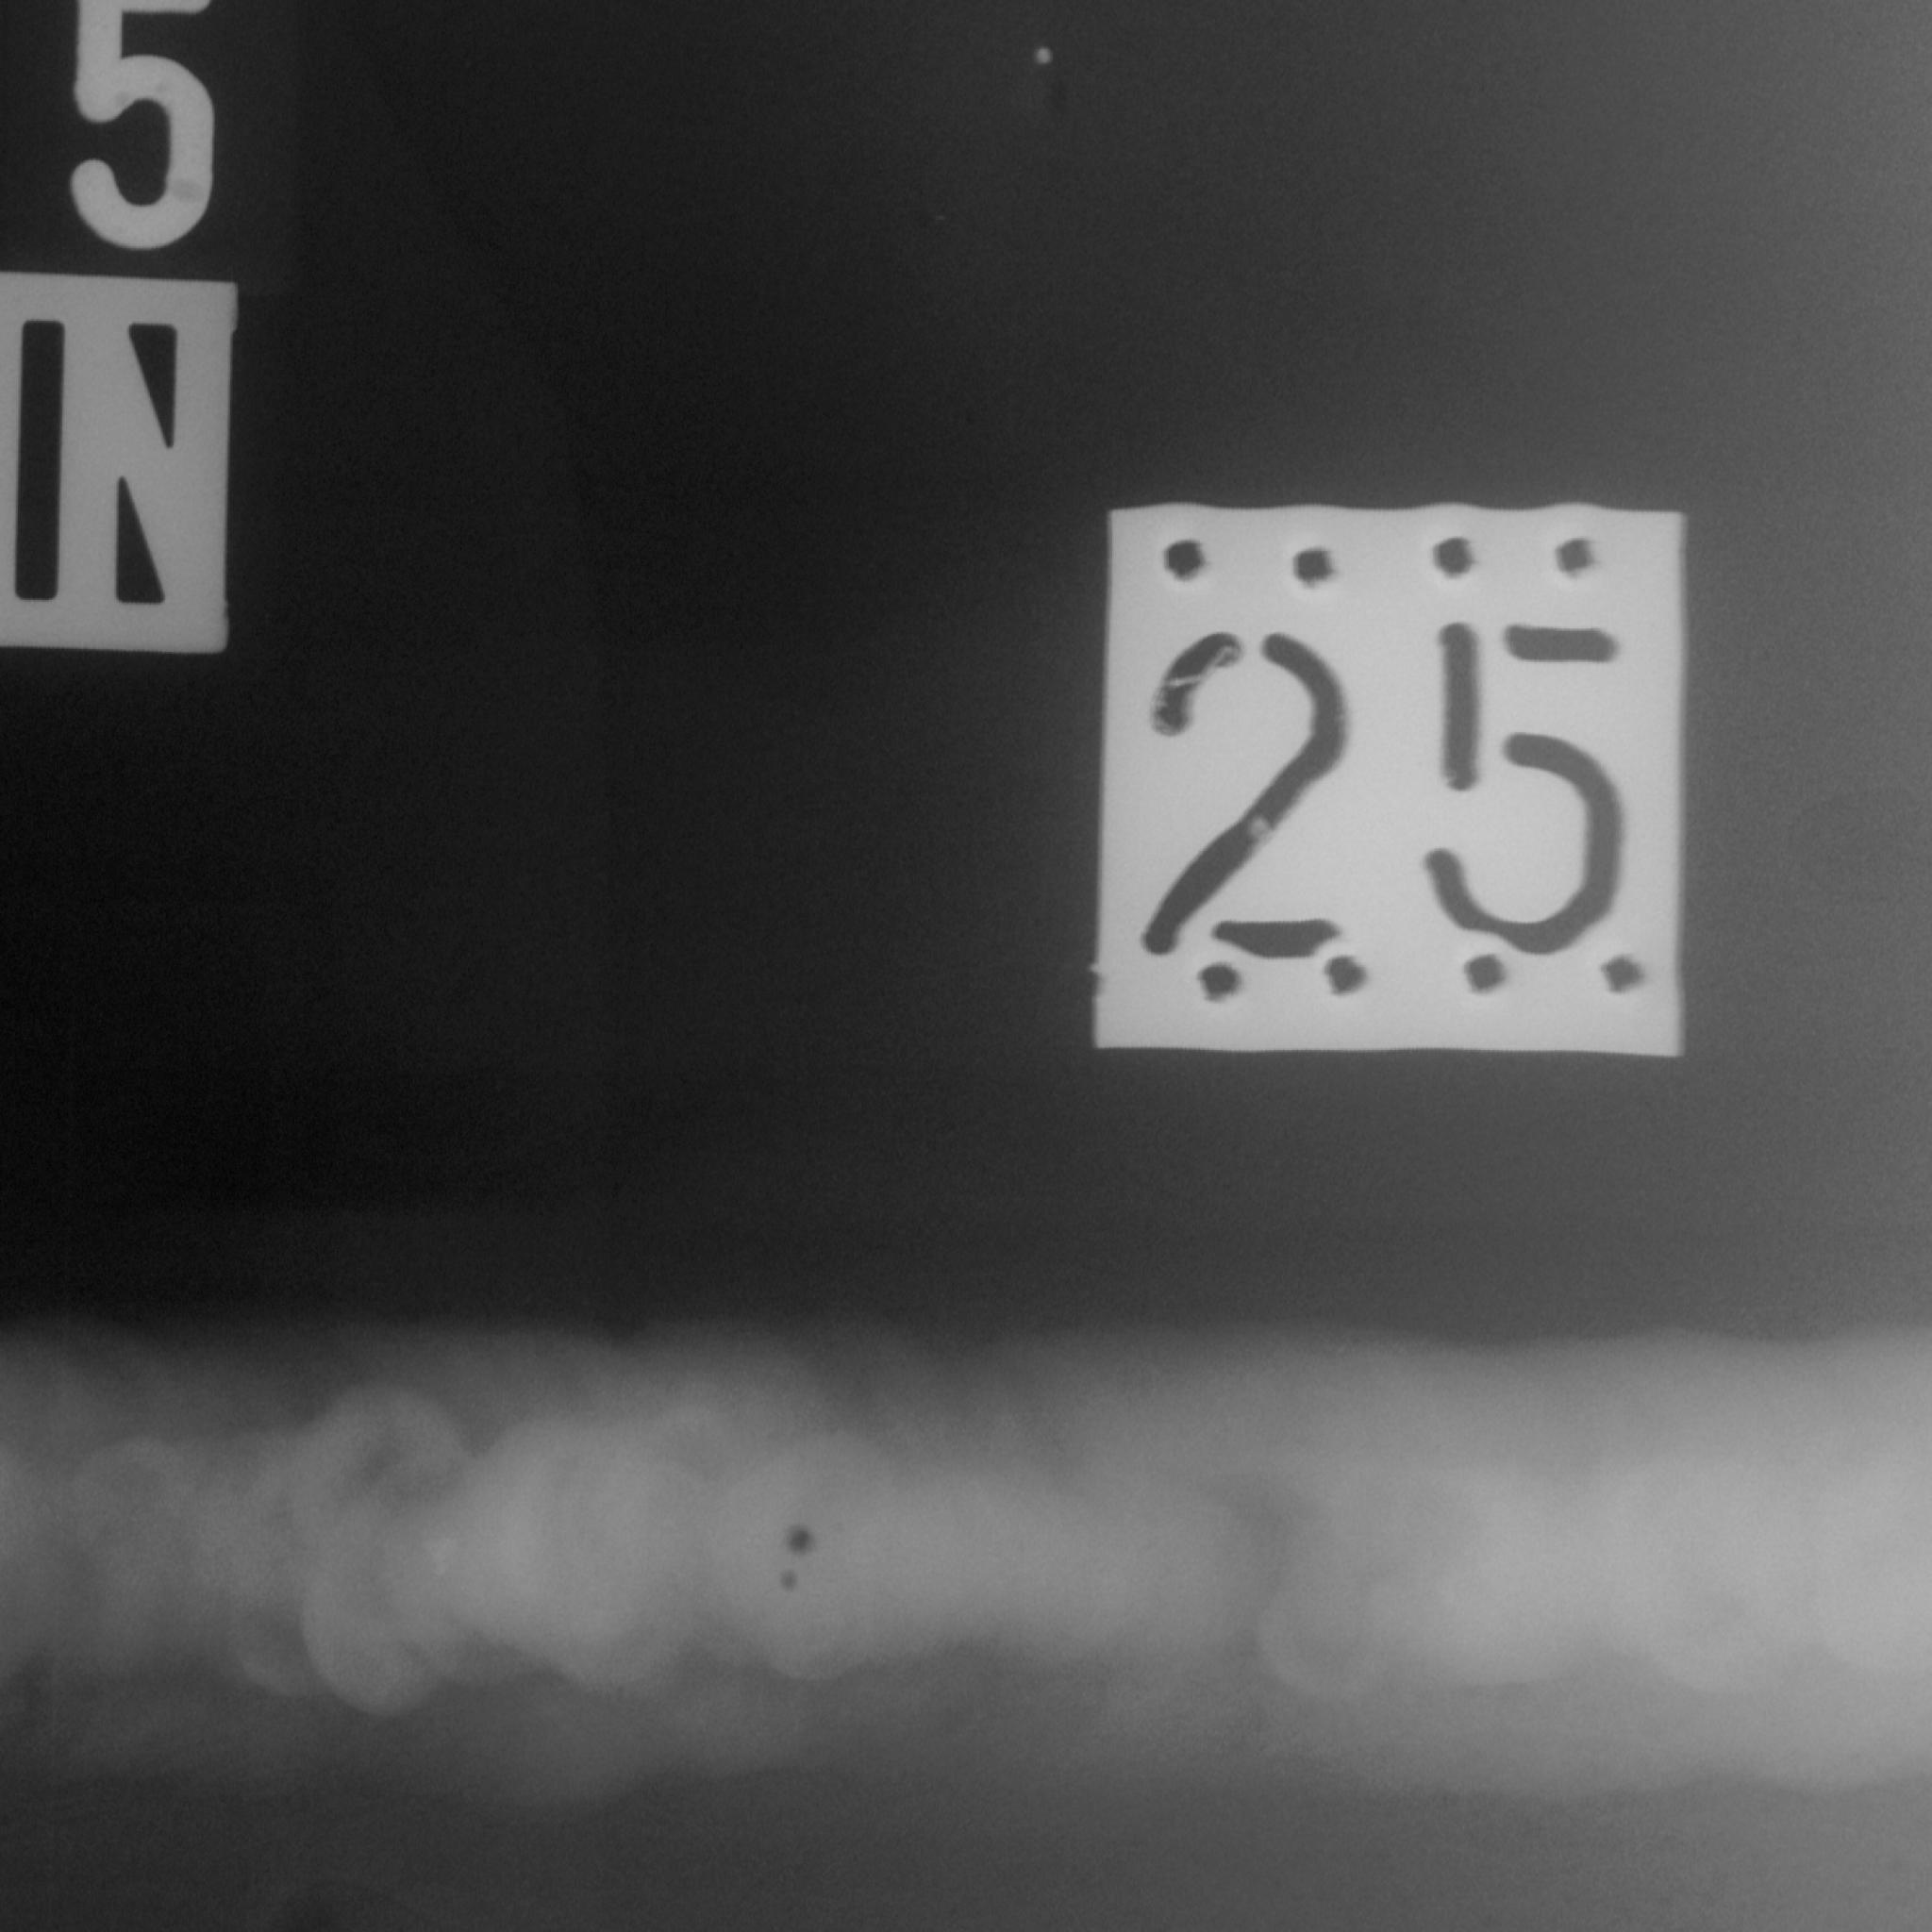PO: (780, 1518, 826, 1562), (777, 1568, 810, 1605), (830, 1513, 855, 1539)
